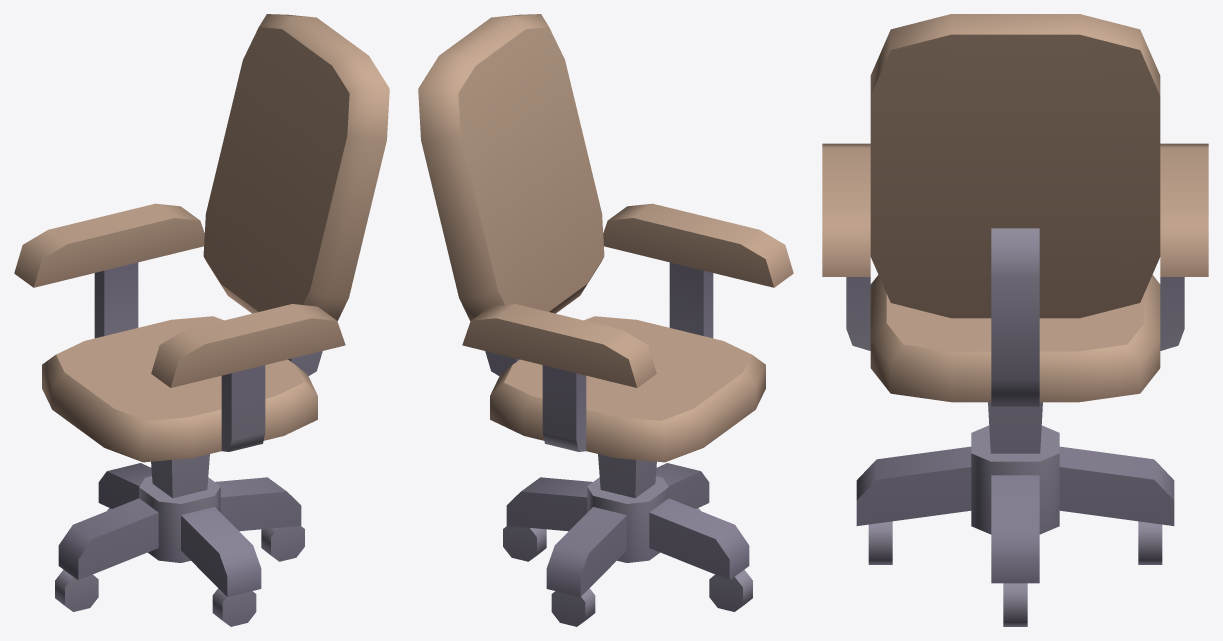
File: desk-chair-high-armrests.glb
3 renders of one model, left to right at view 1: azimuth 30°, elevation 25°; view 2: azimuth 150°, elevation 25°; view 3: azimuth 270°, elevation 25°, orthographic. The views are drawn at different scales.
Parts seen in each view (by area): view 1: desk-chair-high-armrests; view 2: desk-chair-high-armrests; view 3: desk-chair-high-armrests.
Boxes of the visible parts, x1,y1,x2,y2 form: desk-chair-high-armrests: (14,14,389,626); desk-chair-high-armrests: (418,14,793,626); desk-chair-high-armrests: (822,14,1208,626).
Size of the model in its own units: 0.501 by 0.8648 by 0.48.
